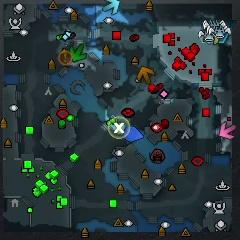Other: (108, 117, 129, 139), (58, 50, 72, 65)
p1: (123, 126, 144, 143)
x1: (220, 121, 237, 141)
x2: (210, 36, 220, 46)
x3: (101, 0, 122, 15)
x4: (70, 43, 87, 62)
x5: (138, 65, 154, 85)
